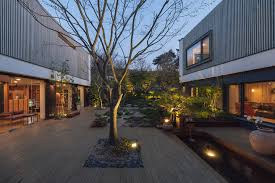house: (181, 2, 275, 127), (1, 7, 86, 114)
tree: (70, 1, 154, 149)
